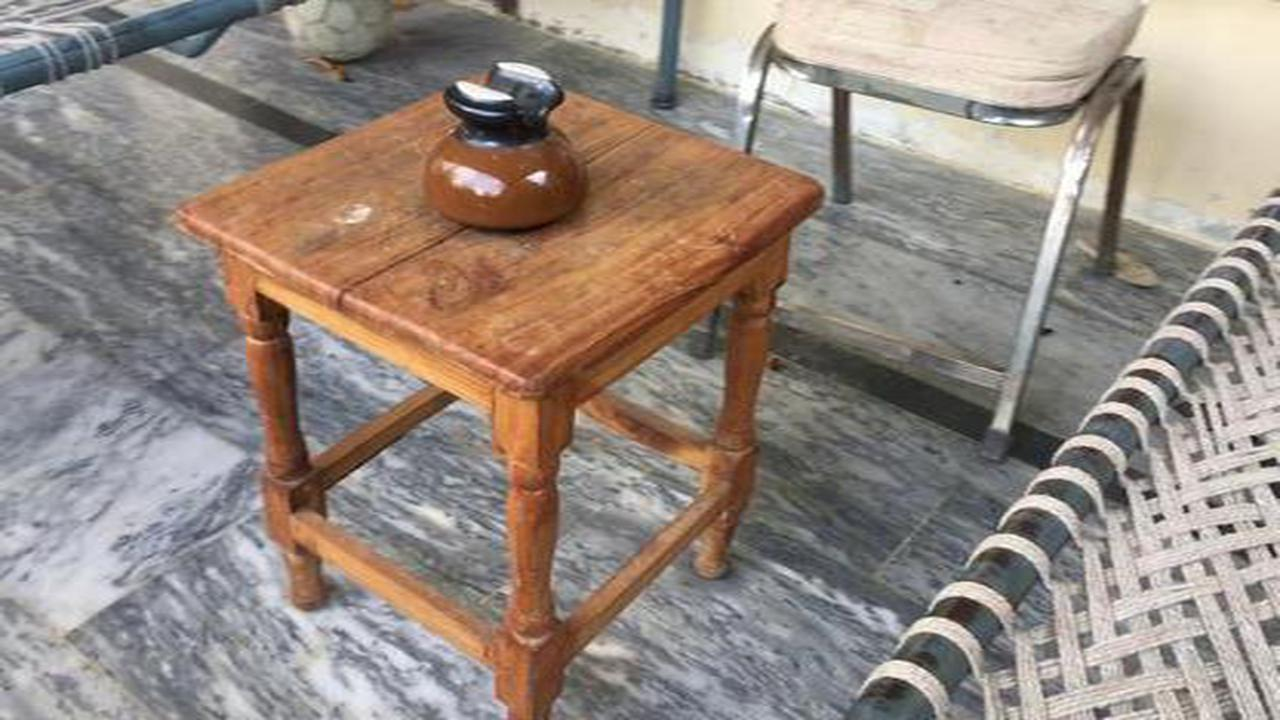insulator_pin: (422, 44, 616, 245)
